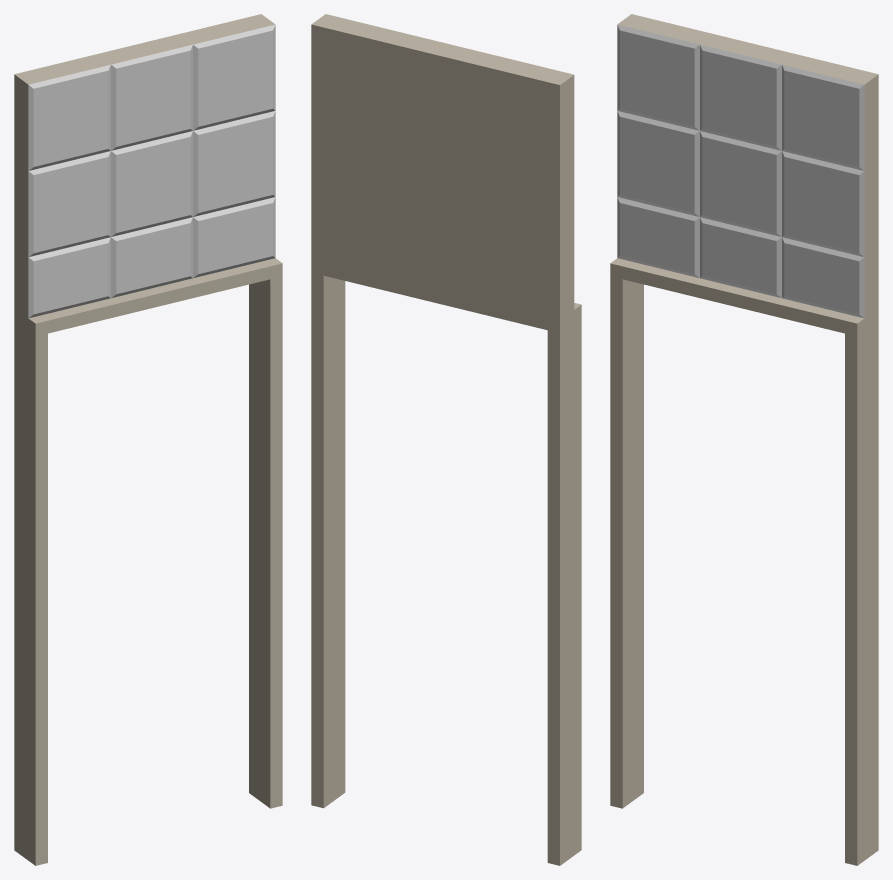
File: Mesh_DoorHoleCeramic_A.fbx
The picture shows the model from 3 angles, left to right: view 1: azimuth 30°, elevation 25°; view 2: azimuth 150°, elevation 25°; view 3: azimuth 330°, elevation 25°; orthographic projection.
Parts seen in each view (by area): view 1: Mesh_DoorHoleCeramic_A; view 2: Mesh_DoorHoleCeramic_A; view 3: Mesh_DoorHoleCeramic_A.
Part boxes in pixels (x1,y1,x2,y2): Mesh_DoorHoleCeramic_A: [14, 14, 282, 865]; Mesh_DoorHoleCeramic_A: [311, 14, 581, 865]; Mesh_DoorHoleCeramic_A: [610, 14, 878, 865].
Bounding box in the file's own units: 1 × 3 × 0.15.
